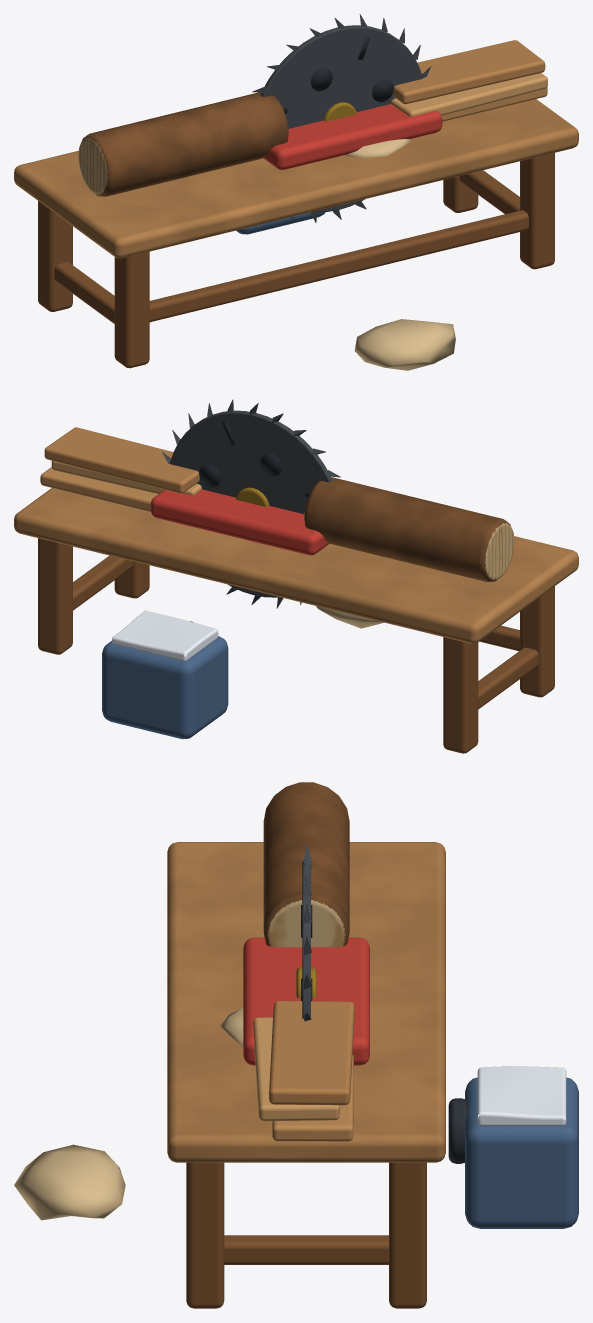
File: station_sawmill.glb
3 renders of one model, top to bottom at view 1: azimuth 30°, elevation 25°; view 2: azimuth 150°, elevation 25°; view 3: azimuth 270°, elevation 25°, orthographic. The views are drawn at different scales.
Visible parts, largest first — view 1: brace; view 2: brace; view 3: brace.
Part boxes in pixels (<box>): brace: <box>14,14,578,370</box>; brace: <box>14,399,578,753</box>; brace: <box>14,782,578,1308</box>.
Bounding box in the file's own units: 2.84 × 1.58 × 2.23.
1 material, 1 textured.
